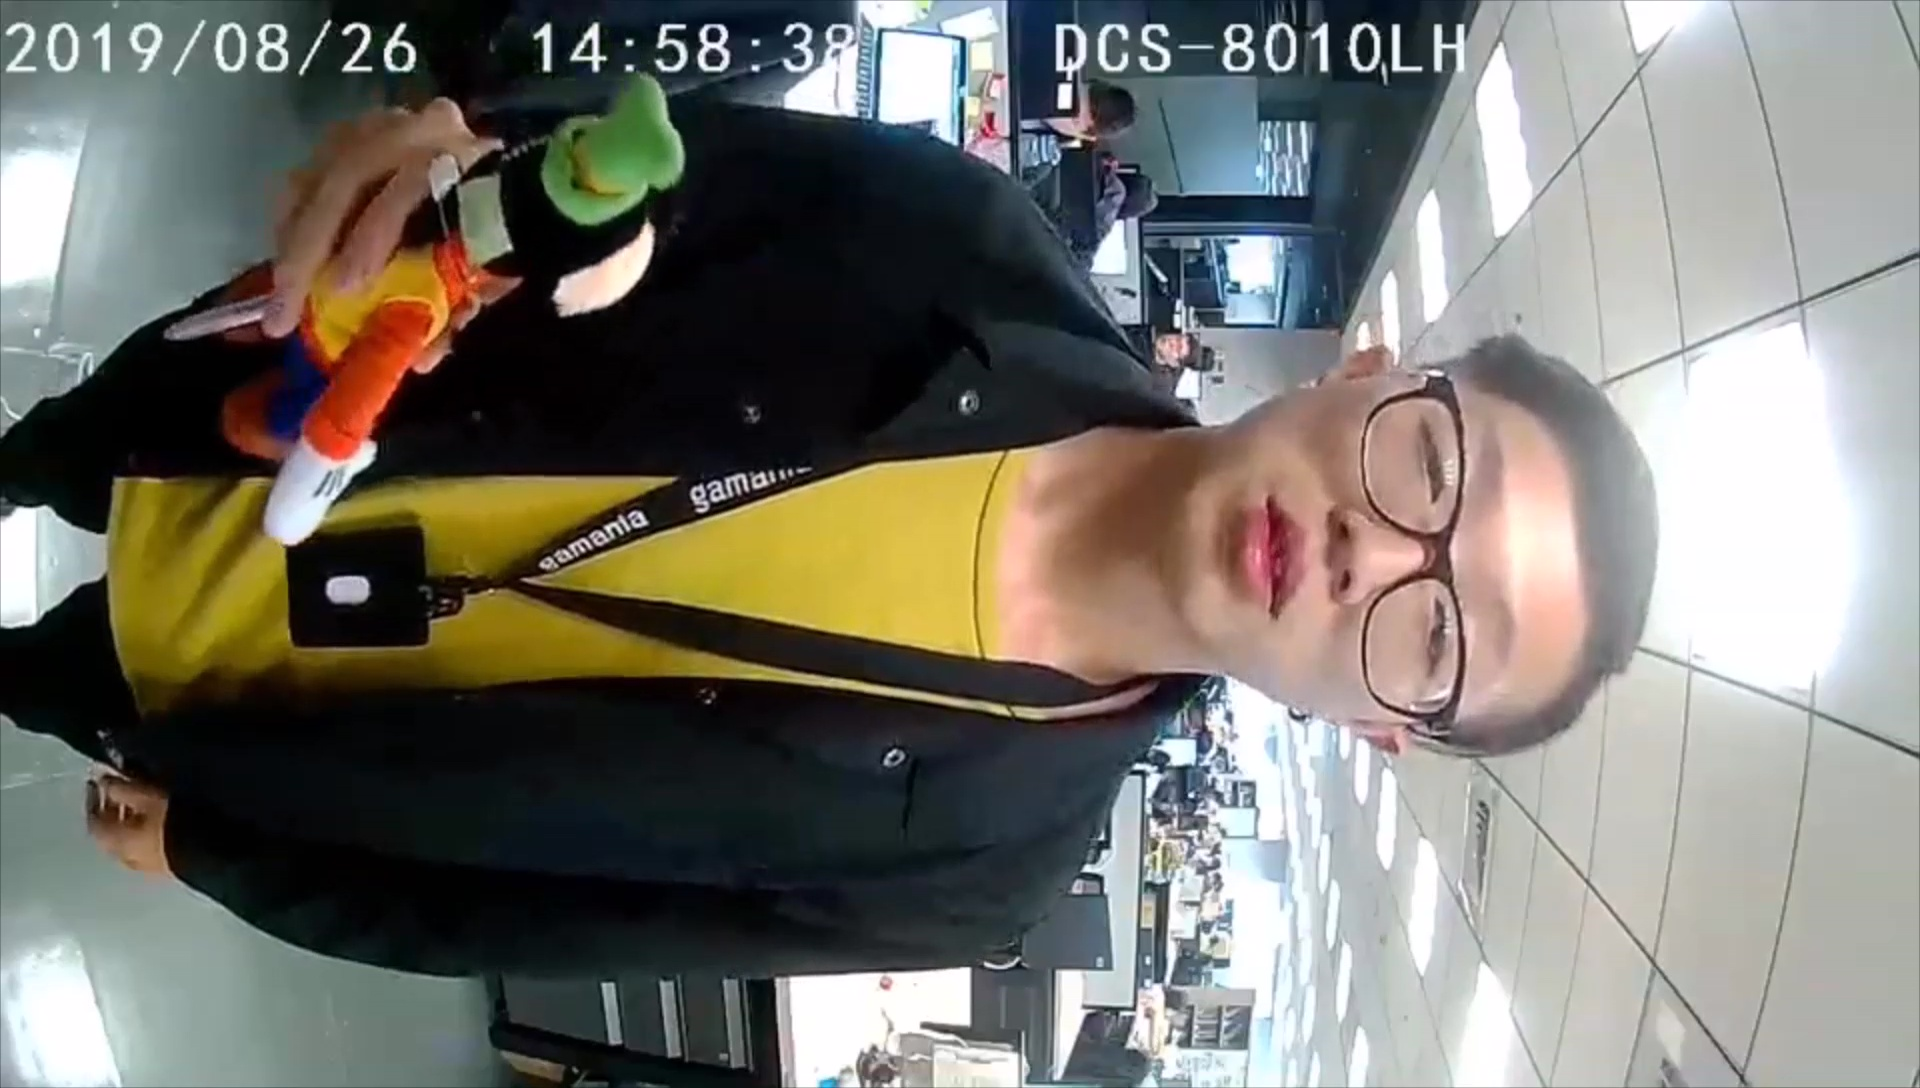goofy: (224, 78, 680, 542)
